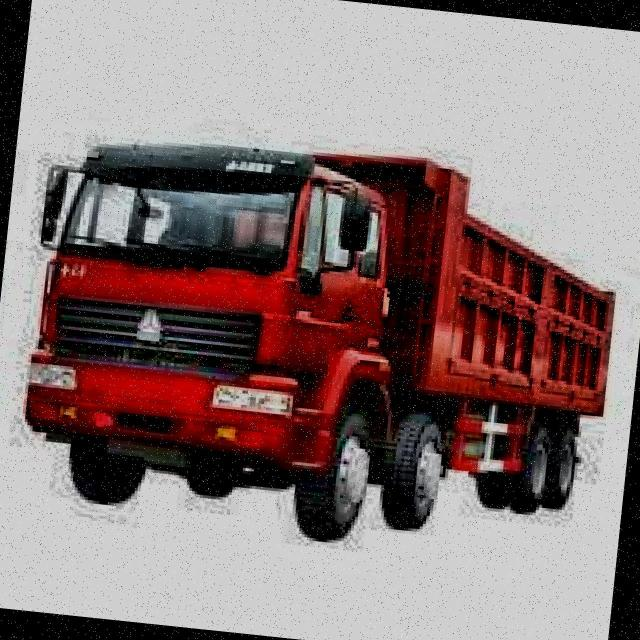dump_truck: (6, 120, 630, 574)
